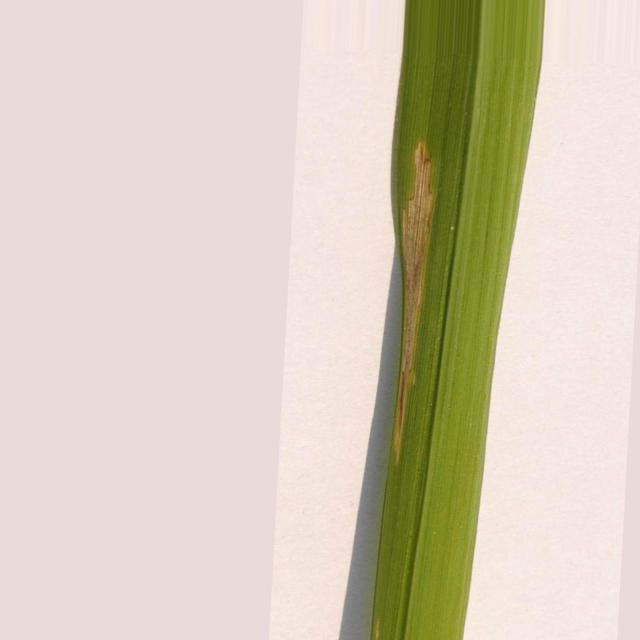Bacterial_Leaf_Blight: (394, 140, 435, 463)
